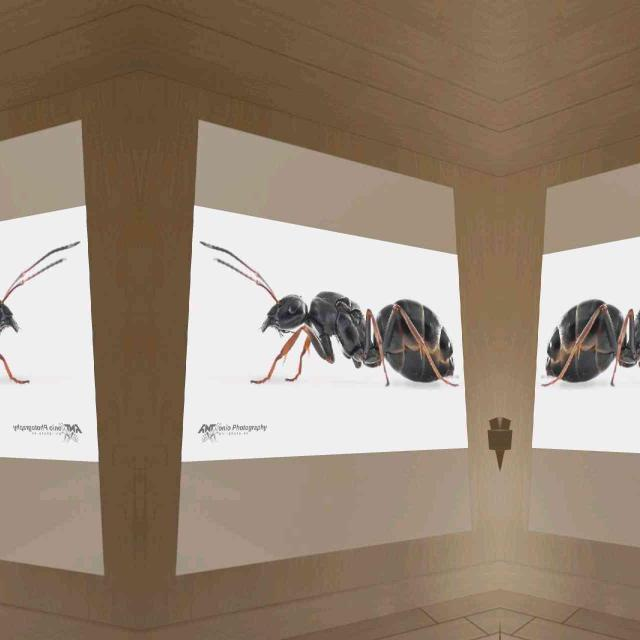Formica: (206, 240, 467, 410), (532, 238, 640, 410), (0, 238, 74, 410)
